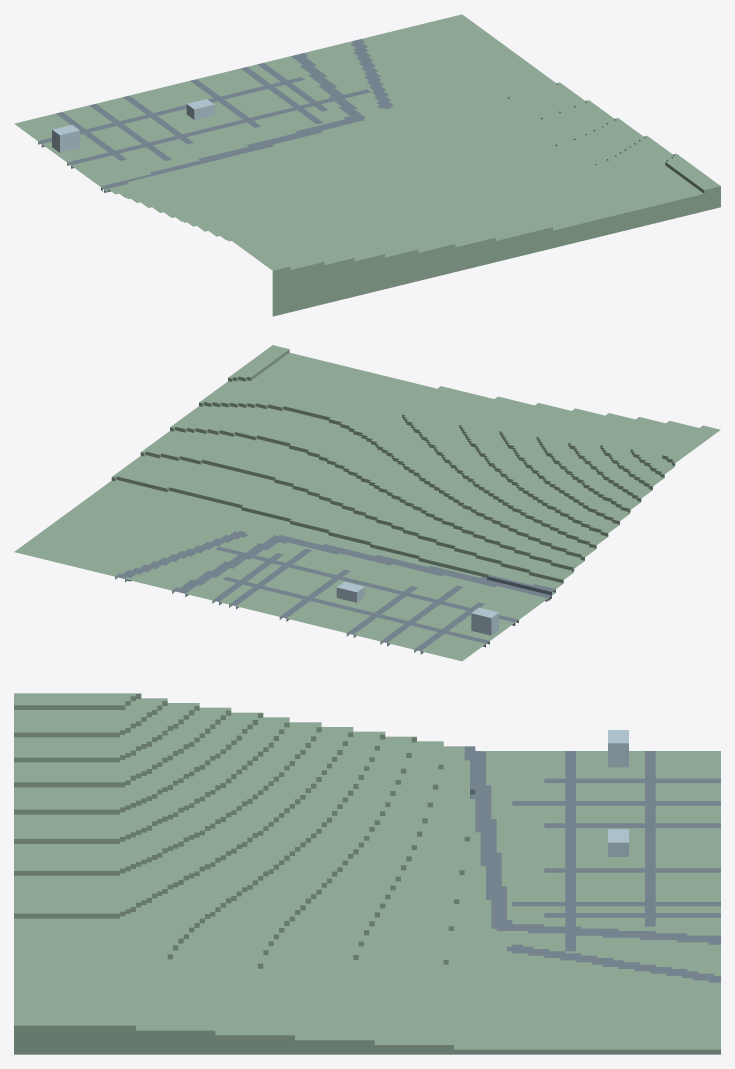
The model's file is sector-ne.glb.
3 renders of one model, top to bottom at view 1: azimuth 30°, elevation 25°; view 2: azimuth 150°, elevation 25°; view 3: azimuth 270°, elevation 25°, orthographic. The views are drawn at different scales.
Parts seen in each view (by area): view 1: material_1, material_2, material_4; view 2: material_1, material_2, material_4; view 3: material_1, material_2, material_4.
Boxes of the visible parts, left/top/right/bottom form: material_1: left=14, top=14, right=720, bottom=316; material_2: left=38, top=39, right=393, bottom=192; material_4: left=52, top=99, right=214, bottom=152; material_1: left=14, top=345, right=720, bottom=661; material_2: left=115, top=531, right=555, bottom=654; material_4: left=336, top=581, right=498, bottom=635; material_1: left=14, top=693, right=720, bottom=1054; material_2: left=464, top=746, right=720, bottom=982; material_4: left=608, top=730, right=628, bottom=856.
Bounding box in the file's own units: 1333 × 130 × 1333.
